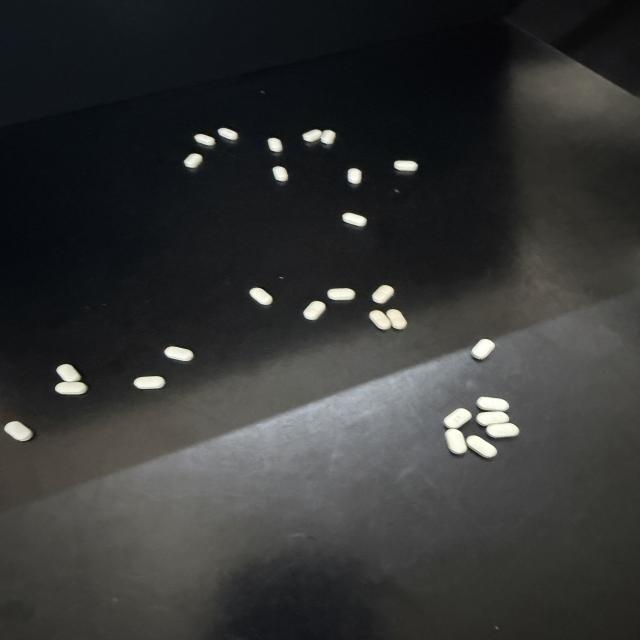pill: (467, 435, 497, 457), (444, 408, 472, 429), (5, 421, 33, 441), (445, 429, 467, 454), (471, 339, 495, 360), (486, 423, 519, 438), (56, 364, 82, 382), (477, 411, 508, 426), (477, 397, 509, 411), (164, 347, 194, 361), (303, 301, 325, 320), (372, 285, 394, 304), (369, 310, 391, 329), (55, 382, 87, 395), (249, 288, 273, 305), (134, 376, 165, 389), (387, 309, 406, 329), (327, 289, 355, 300), (343, 213, 366, 226), (394, 160, 417, 171), (184, 154, 202, 168), (194, 134, 215, 146), (303, 129, 322, 142), (218, 128, 238, 140), (273, 166, 288, 182), (348, 168, 362, 184), (320, 130, 336, 144), (268, 138, 282, 152)
